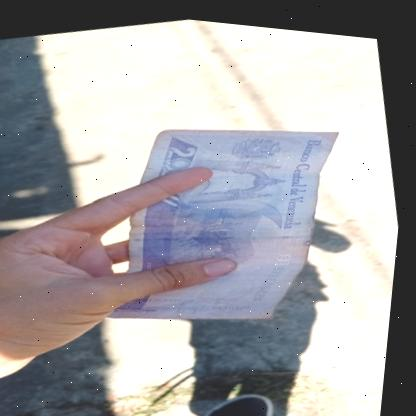ten-back-vef: (77, 83, 378, 353)
